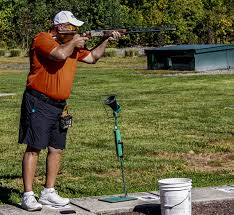Gun: (85, 25, 162, 44)
